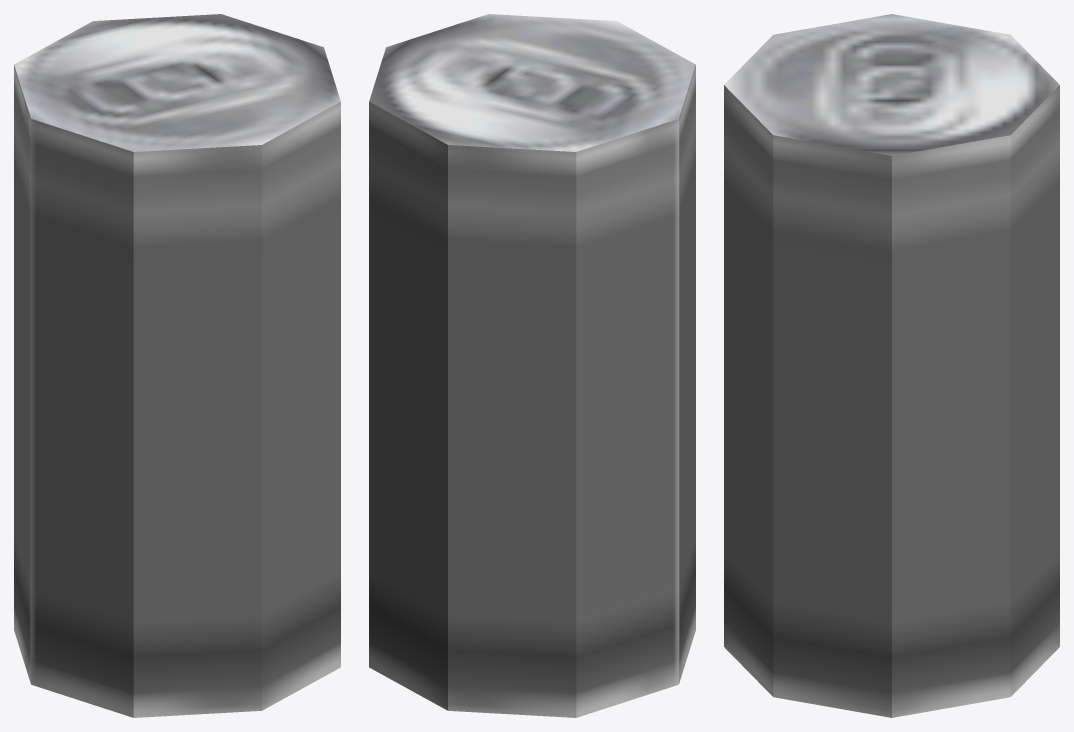
File: SmallStock.fbx
3 renders of one model, left to right at view 1: azimuth 30°, elevation 25°; view 2: azimuth 150°, elevation 25°; view 3: azimuth 270°, elevation 25°, orthographic.
Visible parts, largest first — view 1: Cylinder; view 2: Cylinder; view 3: Cylinder.
Boxes of the visible parts, bbox=[...] form: Cylinder: bbox=[14, 14, 340, 717]; Cylinder: bbox=[369, 14, 695, 717]; Cylinder: bbox=[724, 14, 1059, 717].
Bounding box in the file's own units: 6.5 × 12 × 6.5.
1 material, 1 textured.
